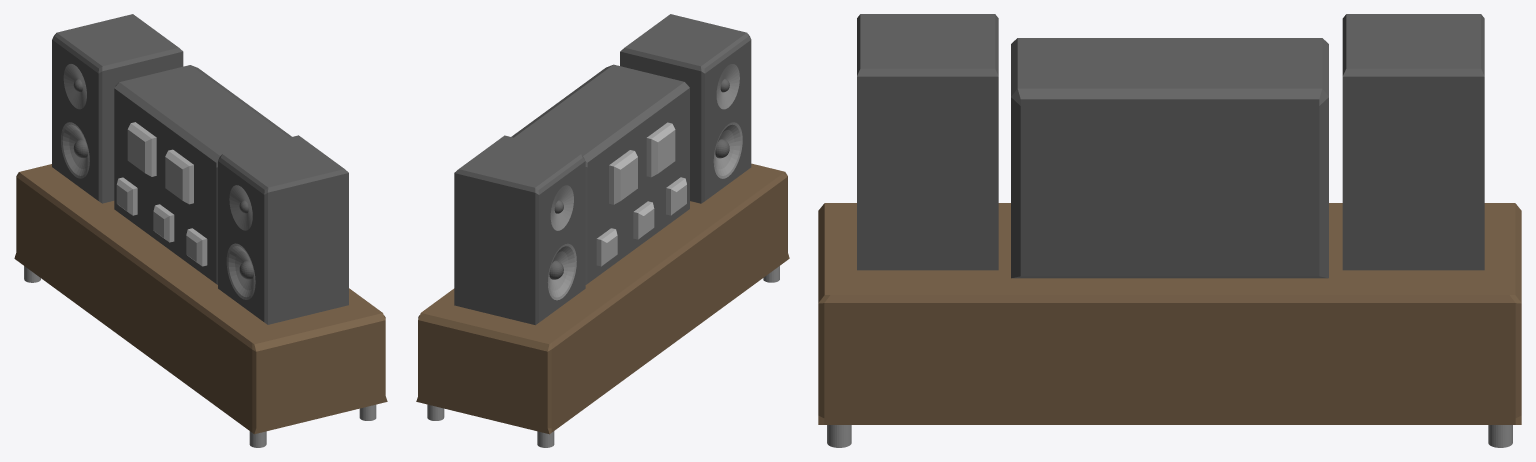
Rendered from Stereo.fbx.
3 views of the same model, side by side, from view 1: azimuth 30°, elevation 25°; view 2: azimuth 150°, elevation 25°; view 3: azimuth 270°, elevation 25° (orthographic). The views are drawn at different scales.
Parts seen in each view (by area): view 1: Table, Speaker_1, Stereo, Speaker_2, Button_Pause, Button_Play, Button_Song_2, Button_song_2, Button_Song_1; view 2: Table, Speaker_2, Stereo, Speaker_1, Button_Play, Button_Pause, Button_Song_1, Button_song_2, Button_Song_2; view 3: Table, Stereo, Speaker_2, Speaker_1.
Part boxes in pixels (<box>): Table: <box>14,164,387,447</box>; Speaker_1: <box>218,135,348,324</box>; Stereo: <box>114,65,291,284</box>; Speaker_2: <box>52,14,183,203</box>; Button_Pause: <box>127,122,156,176</box>; Button_Play: <box>165,149,193,204</box>; Button_Song_2: <box>186,228,207,266</box>; Button_song_2: <box>153,204,174,242</box>; Button_Song_1: <box>116,177,137,215</box>; Table: <box>416,163,789,447</box>; Speaker_2: <box>454,135,585,325</box>; Stereo: <box>511,64,689,284</box>; Speaker_1: <box>620,14,751,203</box>; Button_Play: <box>646,122,675,177</box>; Button_Pause: <box>609,150,637,204</box>; Button_Song_1: <box>596,228,617,266</box>; Button_song_2: <box>633,201,654,239</box>; Button_Song_2: <box>666,177,686,215</box>; Table: <box>818,203,1521,447</box>; Stereo: <box>1011,38,1328,278</box>; Speaker_2: <box>1342,14,1484,270</box>; Speaker_1: <box>857,14,998,270</box>.
Bounding box in the file's own units: 318 × 564 × 991.
